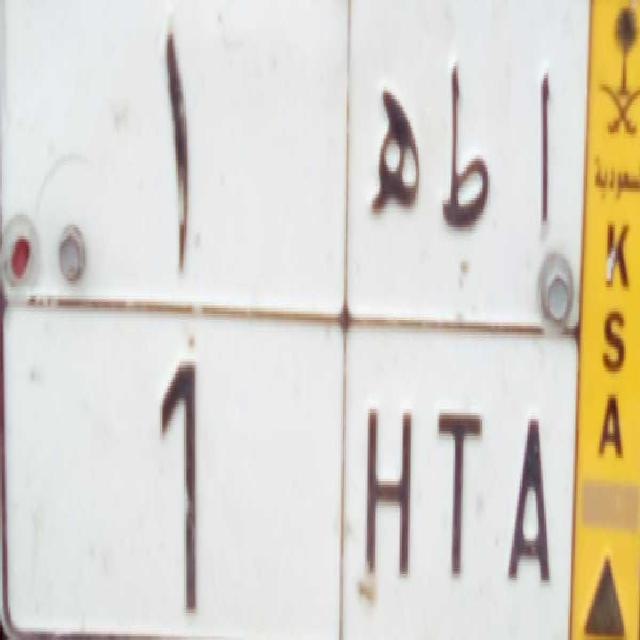license_plate: (0, 299, 573, 640)
